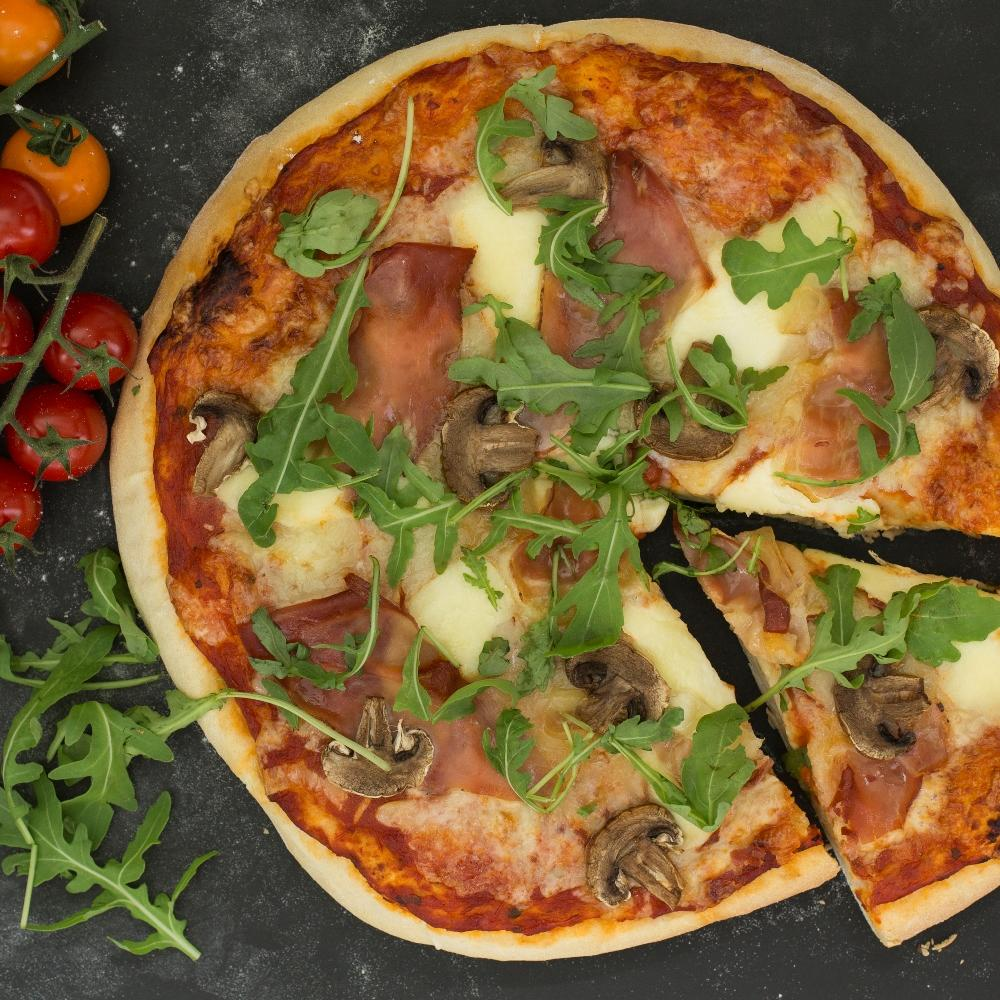champignon: (437, 384, 544, 509), (322, 697, 438, 807), (584, 798, 687, 913), (831, 665, 937, 766)
